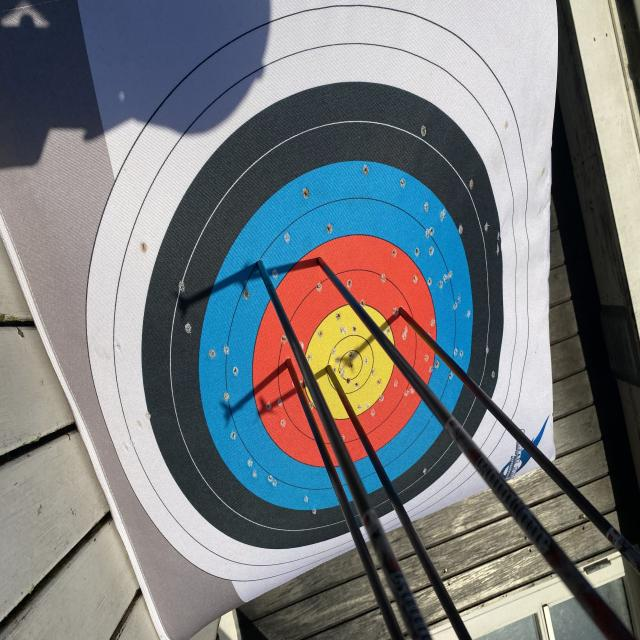Arrow_Blue: (243, 247, 278, 290)
Arrow_Red: (260, 343, 302, 388), (391, 290, 419, 339), (308, 234, 329, 280)
Arrow_Yellow: (316, 350, 344, 397)
